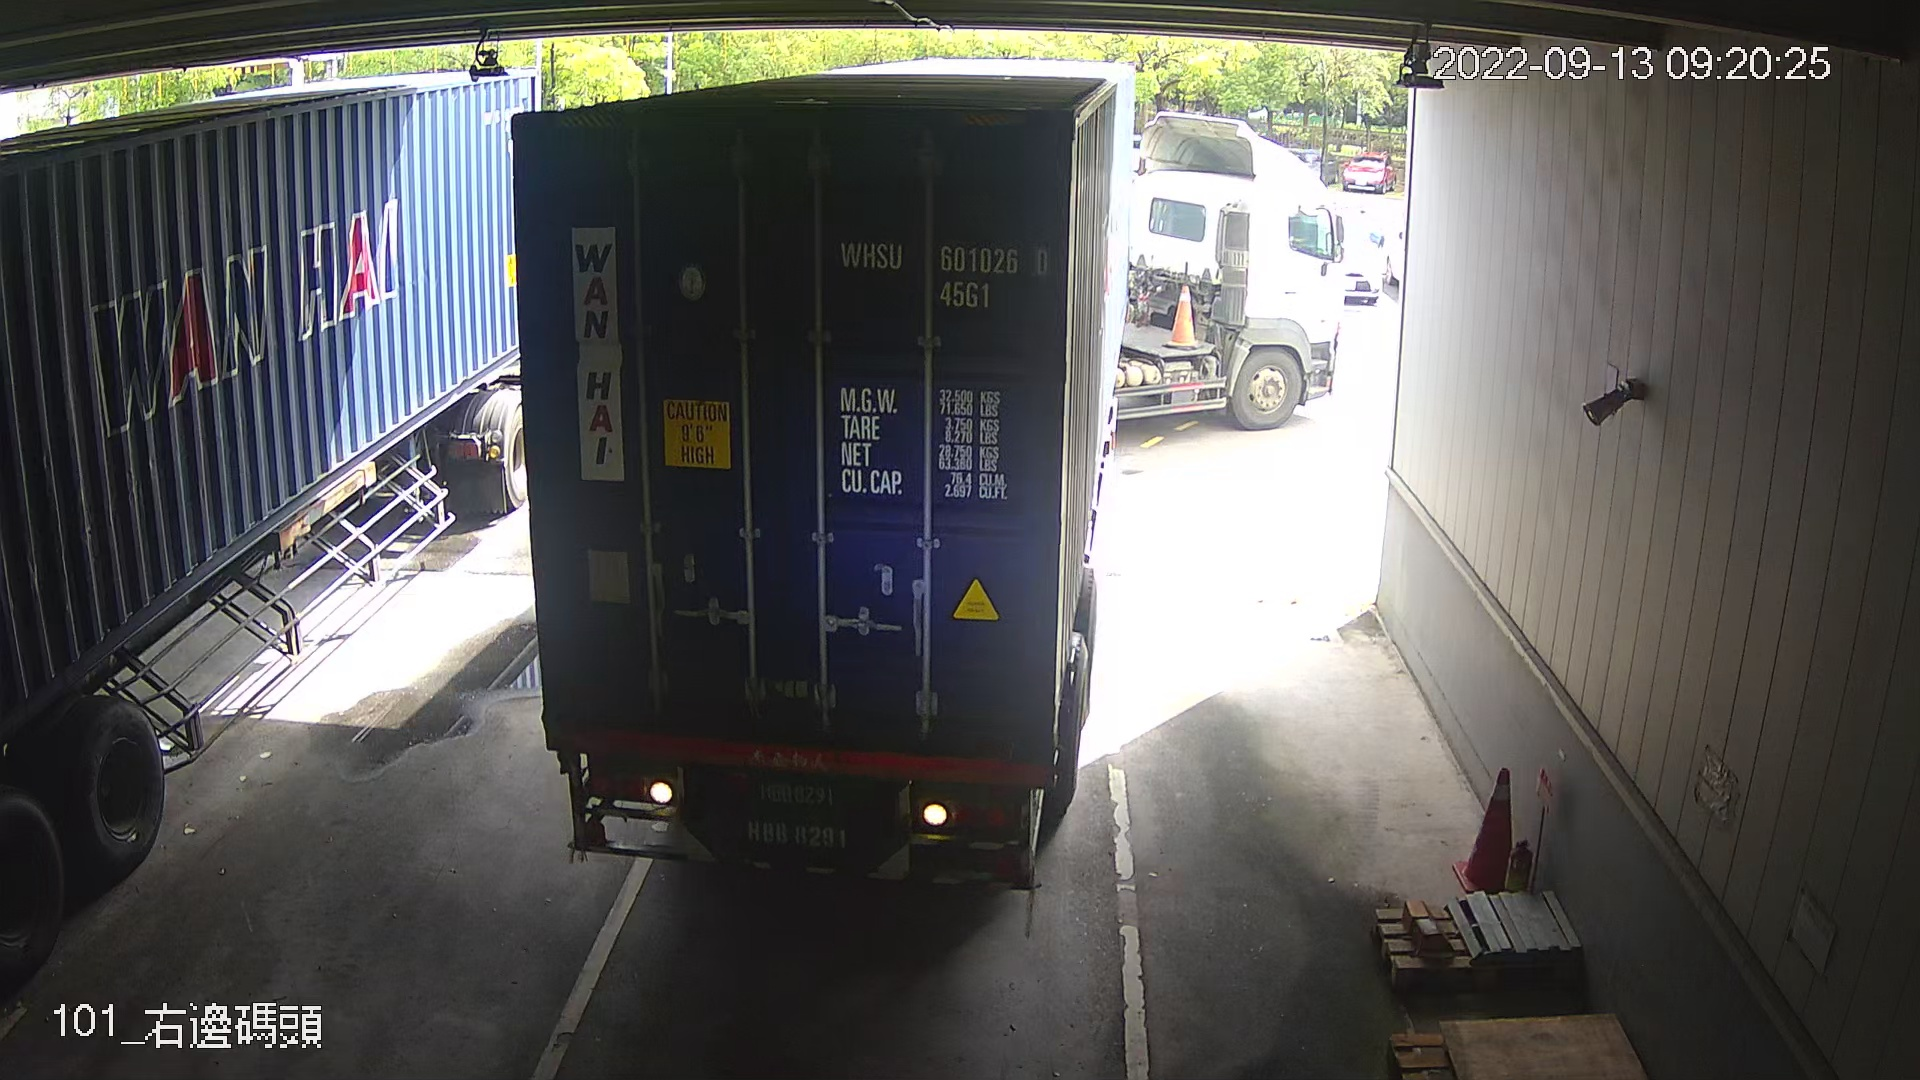container: (832, 227, 1056, 322)
